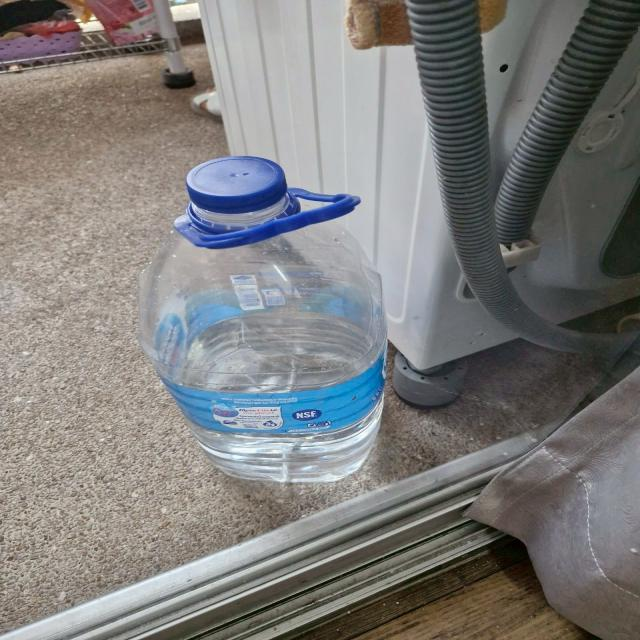plastic bottle: (141, 157, 395, 483)
